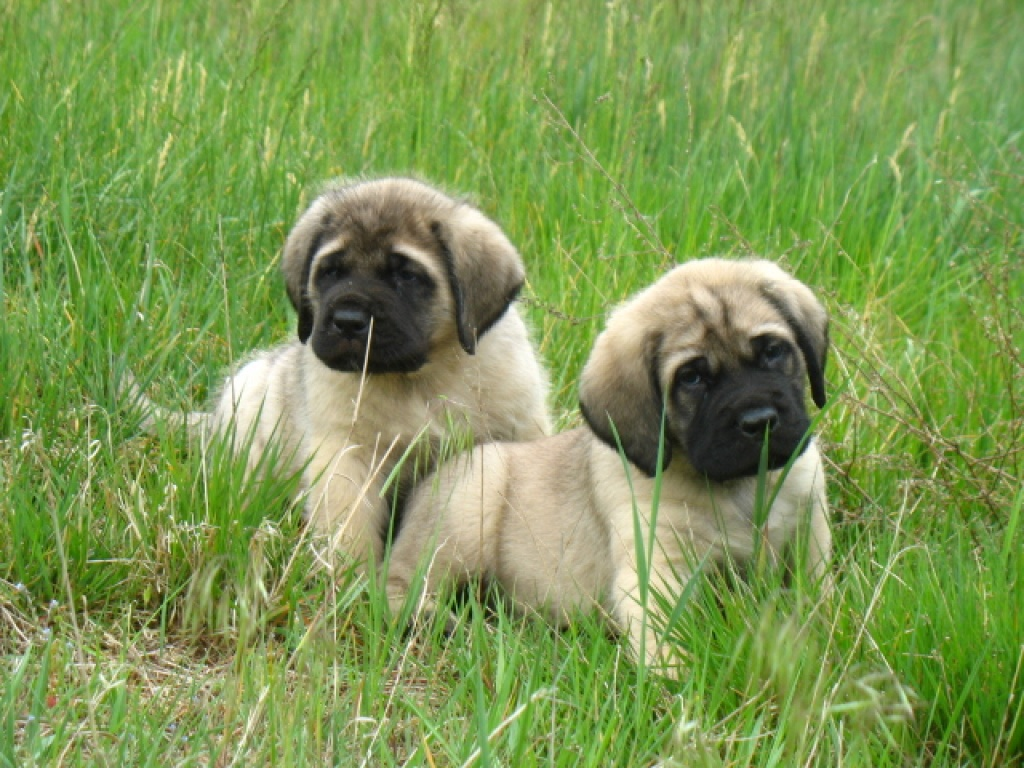mastiff: (381, 256, 838, 685), (117, 167, 556, 585)
